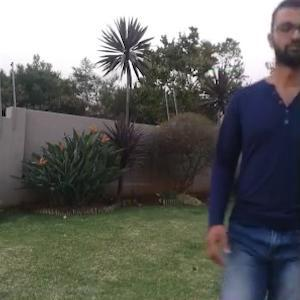follow: (210, 10, 298, 299)
